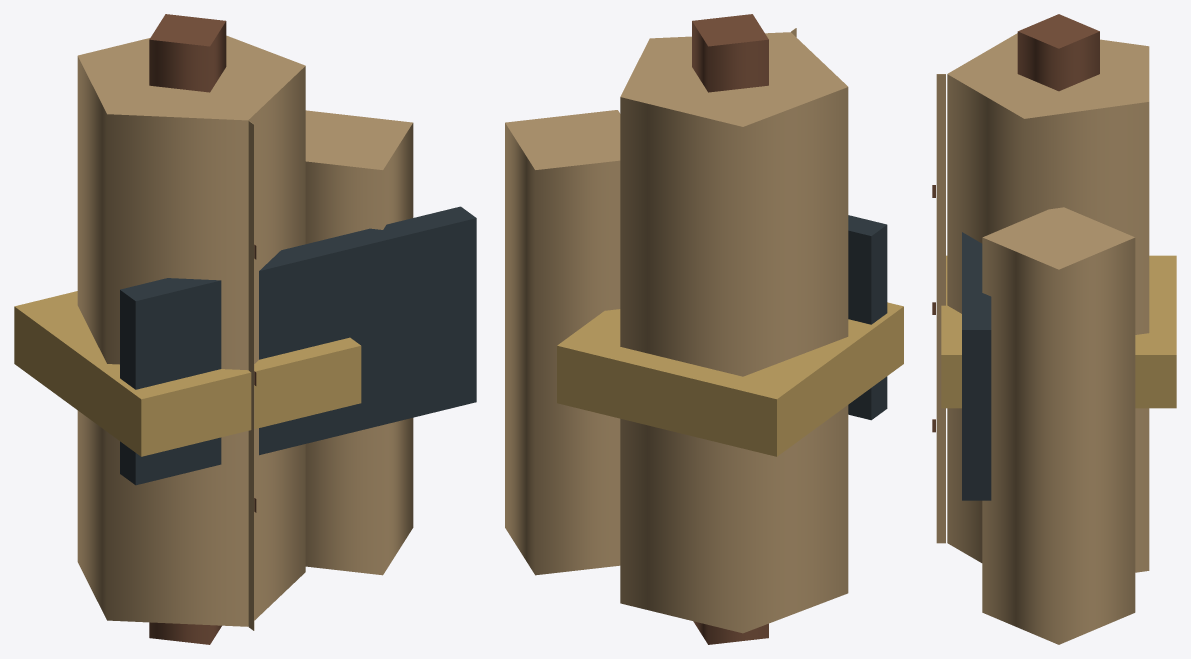
File: scroll-5-lod2.glb
The picture shows the model from 3 angles, left to right: view 1: azimuth 30°, elevation 25°; view 2: azimuth 150°, elevation 25°; view 3: azimuth 270°, elevation 25°; orthographic projection. The views are drawn at different scales.
Visible parts, largest first — view 1: piece_whole, ReadingSheet; view 2: piece_whole; view 3: piece_whole, ReadingSheet.
Part boxes in pixels (x1=…): piece_whole: x1=14, y1=14, x2=476, y2=644; ReadingSheet: x1=248, y1=121, x2=256, y2=630; piece_whole: x1=505, y1=14, x2=903, y2=644; piece_whole: x1=941, y1=14, x2=1176, y2=644; ReadingSheet: x1=932, y1=74, x2=945, y2=543.
Bounding box in the file's own units: 0.315 × 0.52 × 0.2075.
